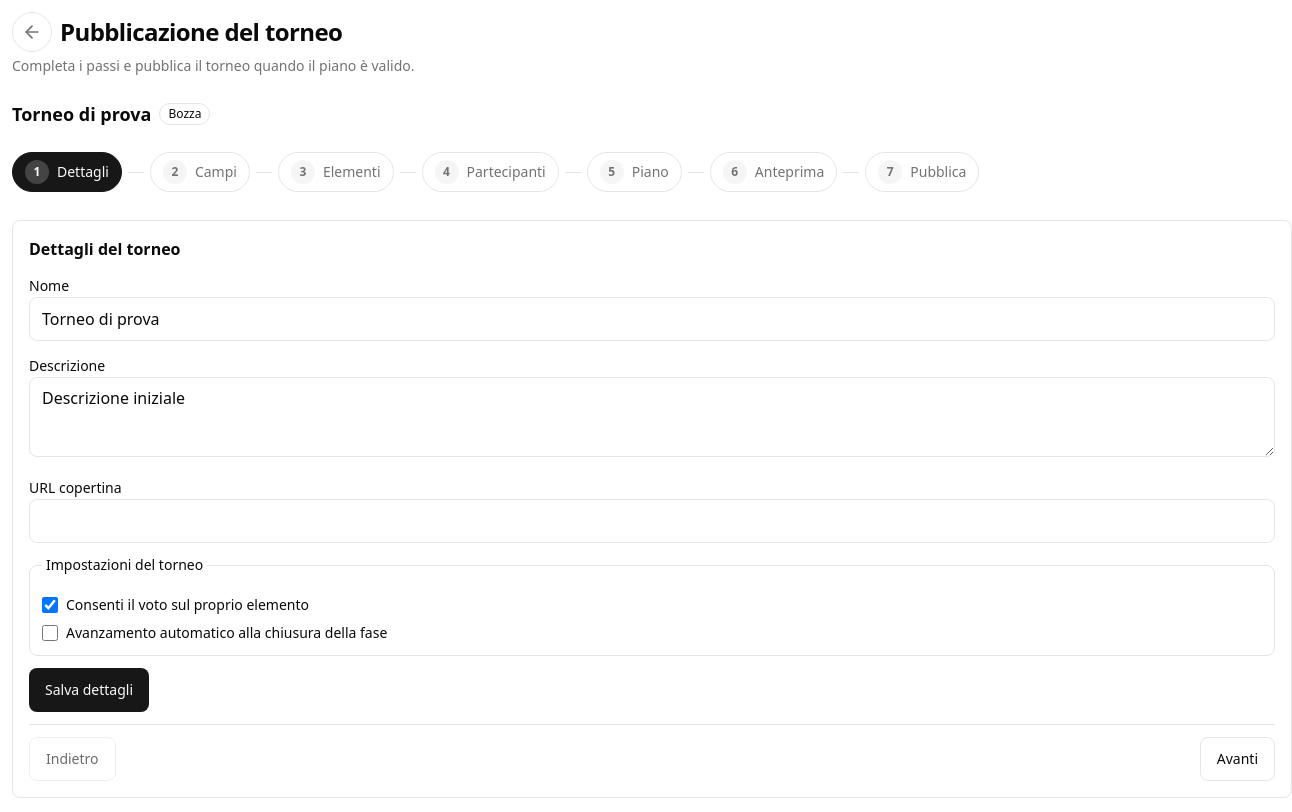
Test case: TournamentWizardView › pubblica un piano valido e mostra lo stato published
Click the button with test id "wizard-step-publish" at (922, 172), box 865,152 -> 979,192
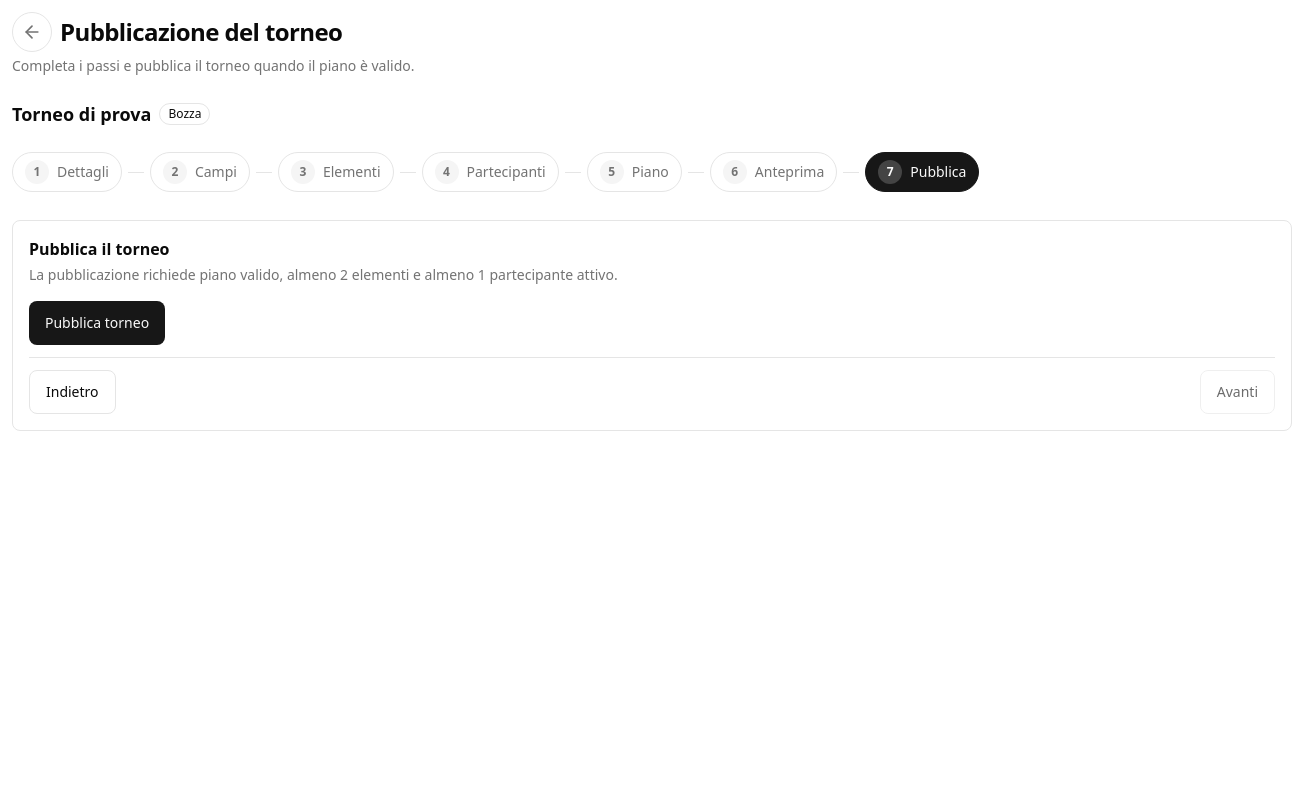
Result: the button with id "wizard-publish-button" is enabled
Click the button with id "wizard-publish-button" at (97, 323), box 29,301 -> 165,345
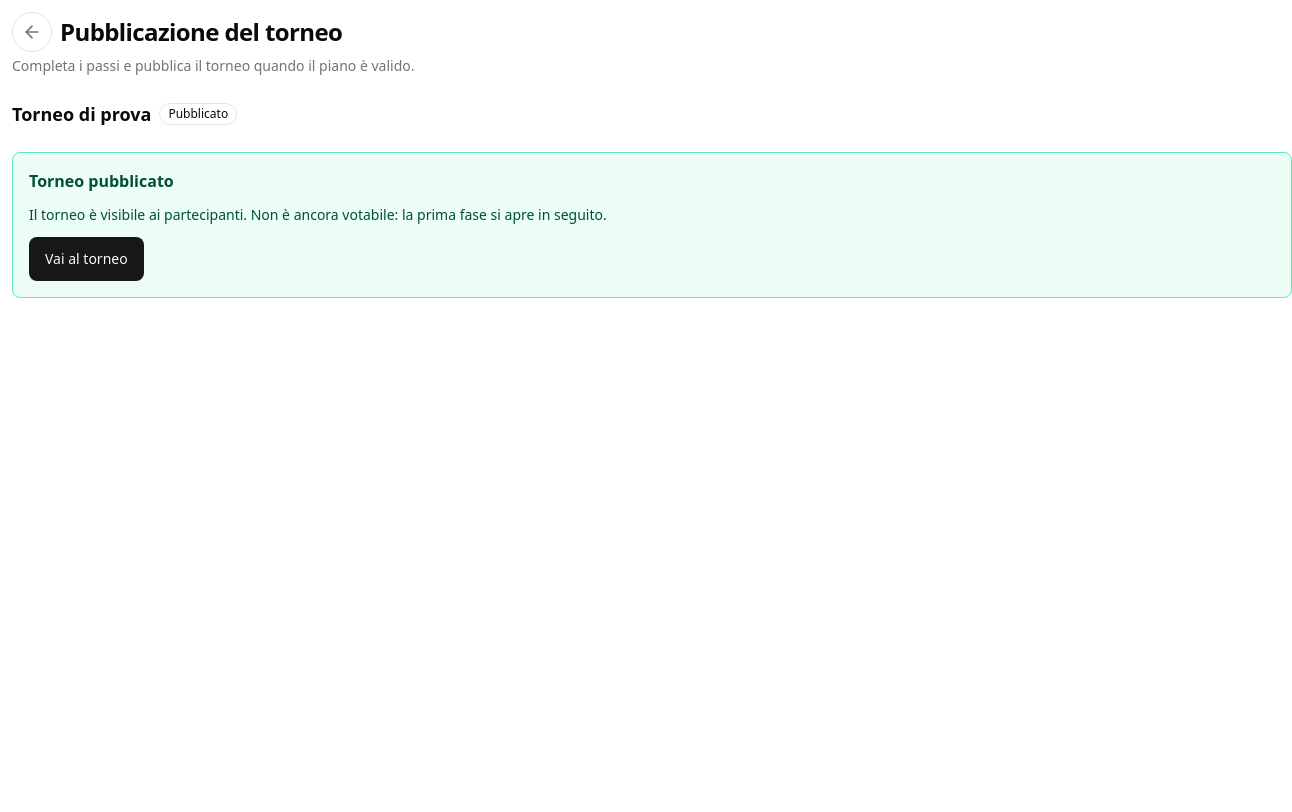
Result: the element with test id "wizard-published" shows "Torneo pubblicato" at 29,170 -> 174,192
Result: the element with test id "wizard-published" shows "visibile ai partecipanti" at 29,205 -> 607,224
